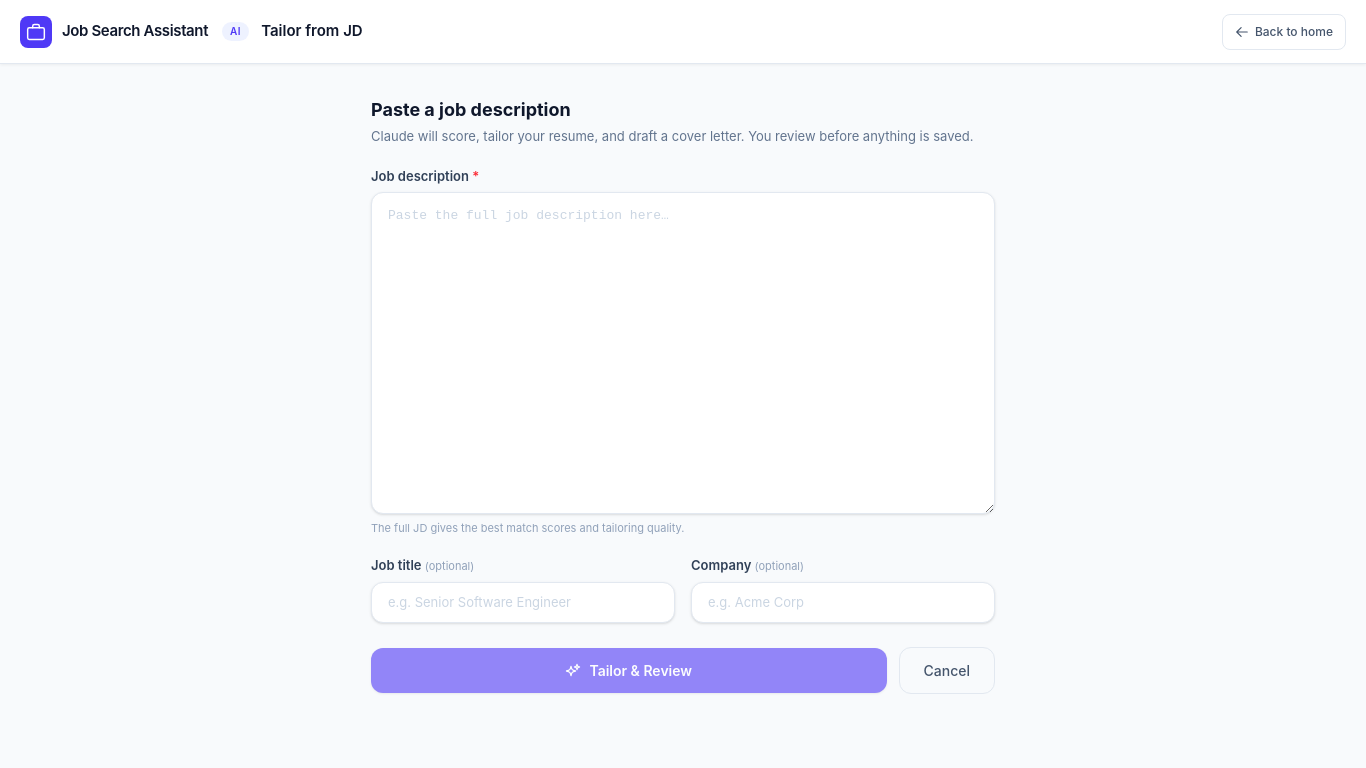
Test: PasteJDPage › keeps submit disabled until the JD textarea has content
Check: the button "Tailor & Review" is disabled, box [371,648,886,693]
Type "Senior Python Engineer JD" into the text box labelled "Job description *" at (683, 353), box [371,192,995,514]
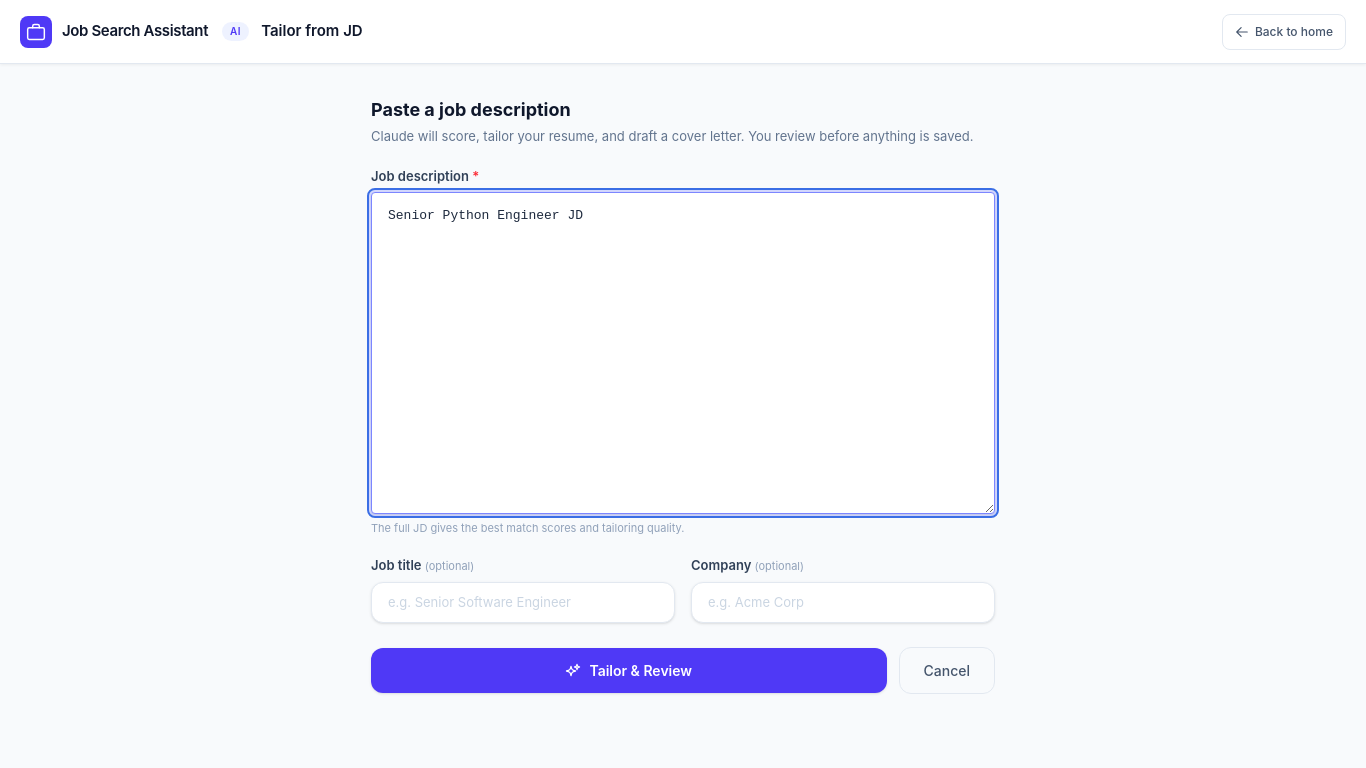
Check: the button "Tailor & Review" is enabled, box [371,648,886,693]
